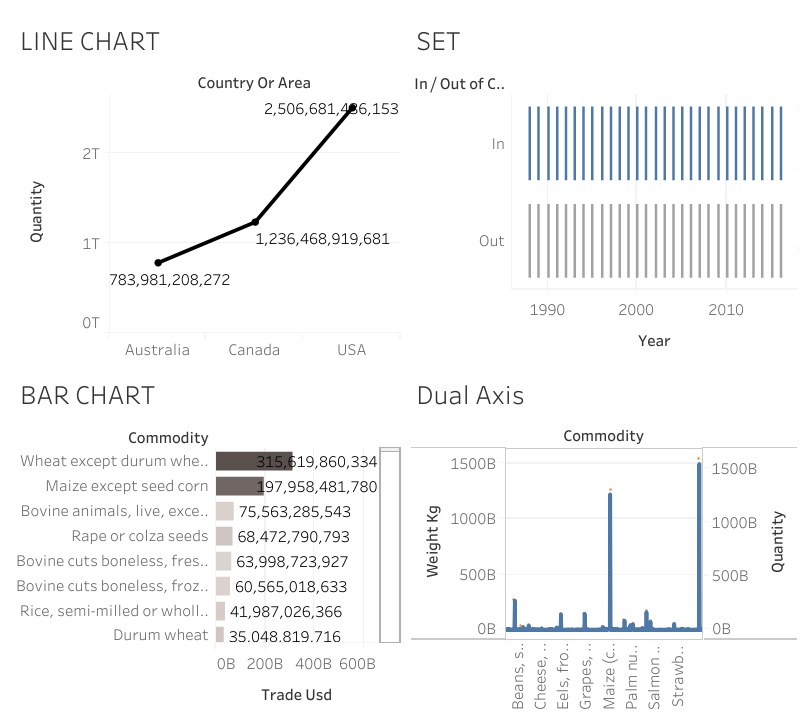

This screenshot's page, from the dashboard's own definition file:
{"tool":"tableau","page":{"name":"Dashboard 1","canvas":[1000,1000],"units":"permille","ordinal":0},"visuals":[{"type":"title","box":[12.3,9.4,975.4,57.5]},{"type":"worksheet","title":"Sheet 1","mark":"Automatic","box":[12.3,66.9,487.7,461.9]},{"type":"worksheet","title":"Sheet 3","mark":"Automatic","rows":["WHO Region"],"cols":["Deaths / 100 Cases","Deaths / 100 Recovered"],"box":[500,66.9,487.7,461.9]},{"type":"worksheet","title":"Sheet 2","mark":"Circle","rows":["Confirmed","Active"],"cols":["Country/Region"],"box":[12.3,528.8,487.7,461.9]},{"type":"worksheet","title":"Sheet 4","mark":"Line","rows":["1 week % increase"],"cols":["Country/Region"],"box":[500,528.8,487.7,461.9]}]}

Visuals, with their boxes on the dashboard's canvas, which has no fixed pixel size, in thousandths of its width and height (x1, y1, x2, y2). These are canvas units, not pixel positions in the 811x728 screenshot, which may show the page scaled, cropped or inside an application window:
title: detection(12, 9, 988, 67)
"Sheet 1" worksheet: detection(12, 67, 500, 529)
"Sheet 3" worksheet: detection(500, 67, 988, 529)
"Sheet 2" worksheet (Circle marks): detection(12, 529, 500, 991)
"Sheet 4" worksheet (Line marks): detection(500, 529, 988, 991)
